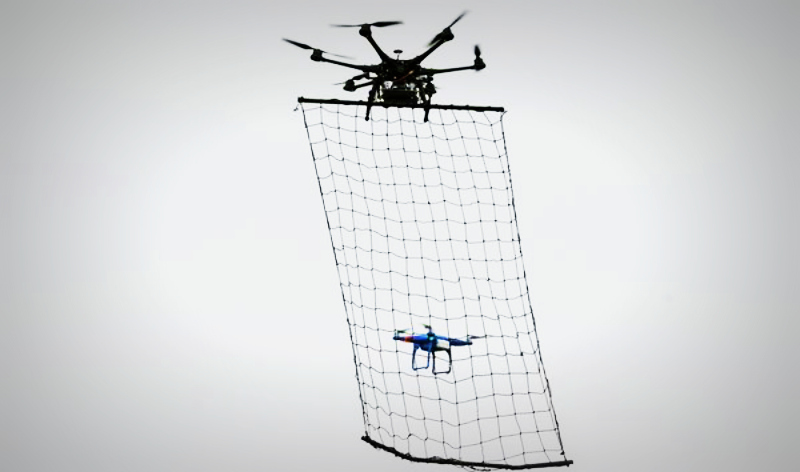drone: (280, 8, 516, 126), (387, 322, 487, 381)
